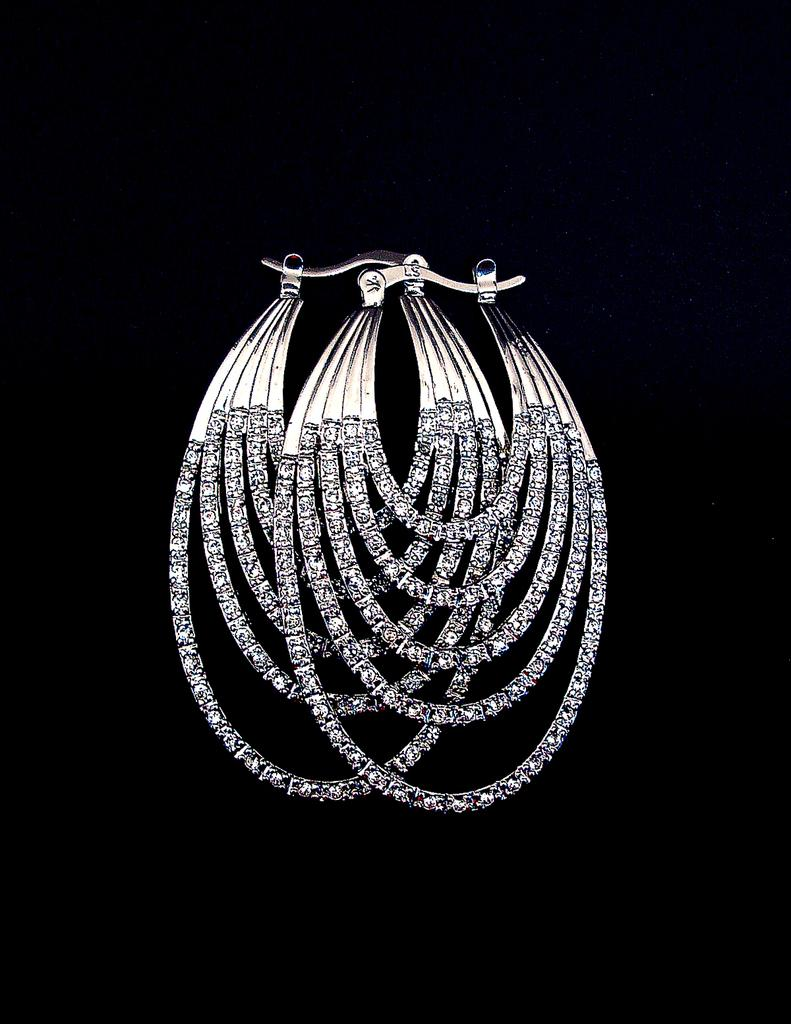earring: (274, 251, 614, 822)
